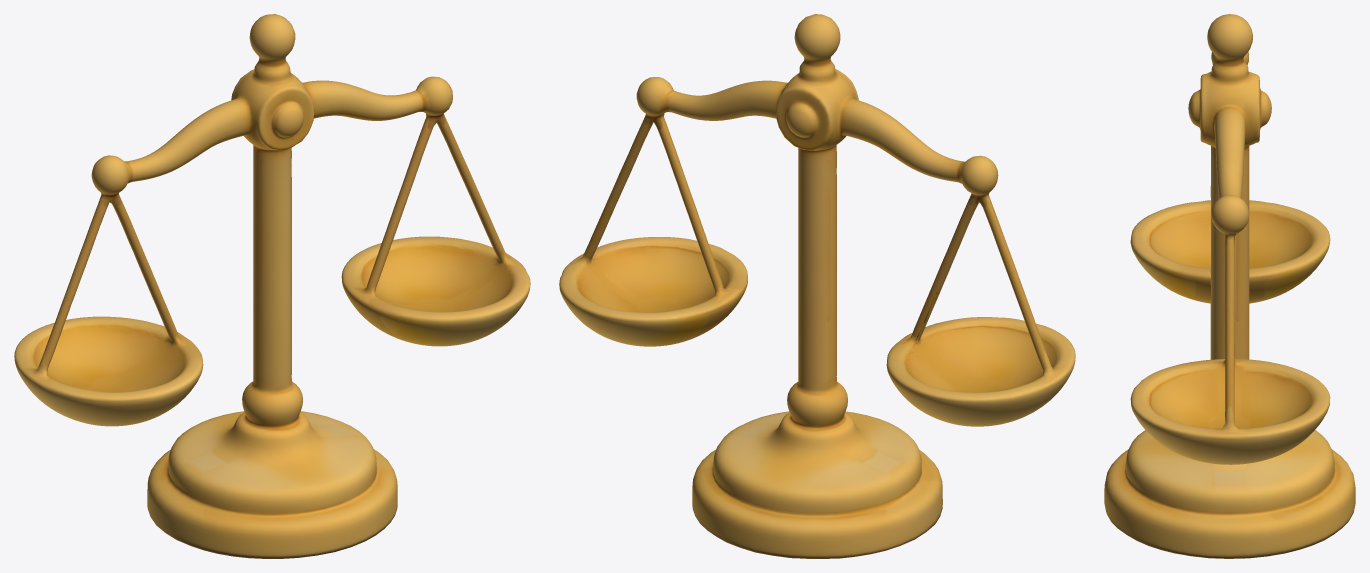
The model's file is base_basic_pbr.glb.
3 views of the same model, side by side, from view 1: azimuth 30°, elevation 25°; view 2: azimuth 150°, elevation 25°; view 3: azimuth 270°, elevation 25° (orthographic).
Visible parts, largest first — view 1: model; view 2: model; view 3: model.
Boxes of the visible parts, x1=… form: model: x1=14, y1=14, x2=530, y2=558; model: x1=559, y1=14, x2=1075, y2=558; model: x1=1104, y1=14, x2=1355, y2=558.
Bounding box in the file's own units: 1.9 × 1.84 × 0.8509.
Materials: 1 (1 with a texture image).
